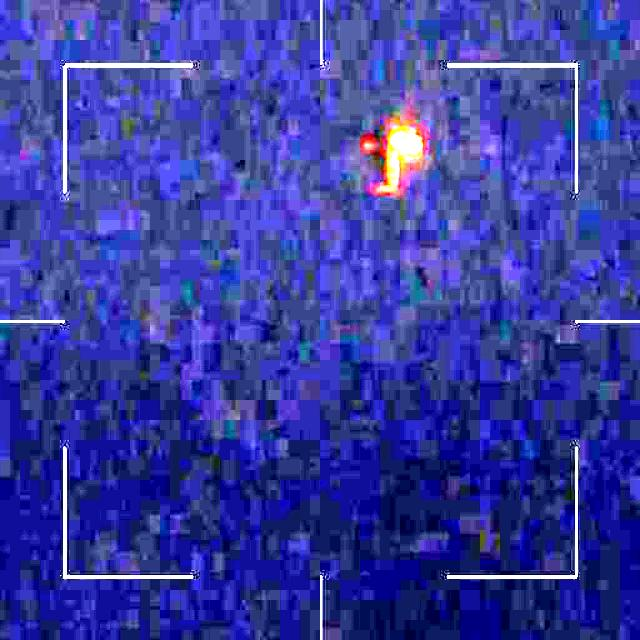bird: (354, 120, 424, 190)
